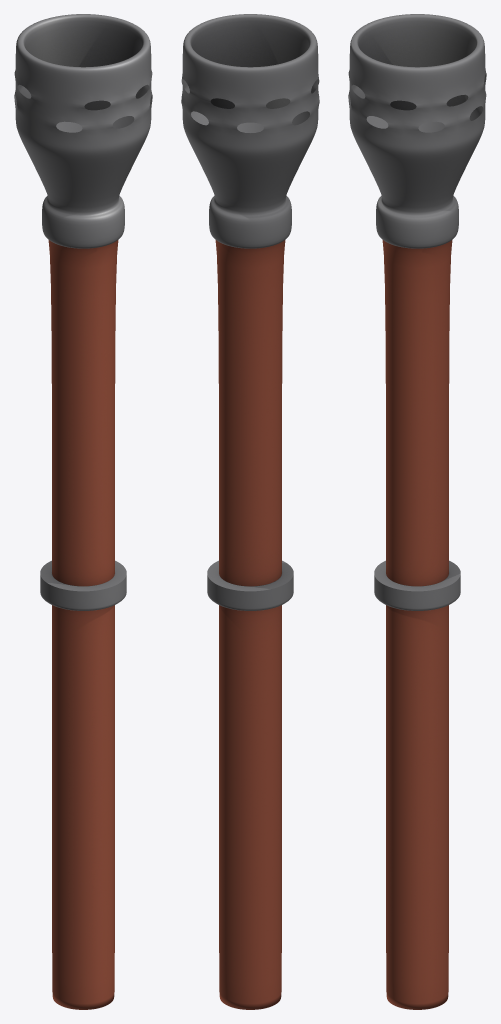
The model's file is cartoon_torch.gltf.
The picture shows the model from 3 angles, left to right: view 1: azimuth 30°, elevation 25°; view 2: azimuth 210°, elevation 25°; view 3: azimuth 270°, elevation 25°; orthographic projection.
Parts seen in each view (by area): view 1: Object001; view 2: Object001; view 3: Object001.
Boxes of the visible parts, left/top/right/bottom form: Object001: left=14, top=14, right=152, bottom=1009; Object001: left=181, top=14, right=319, bottom=1009; Object001: left=348, top=14, right=486, bottom=1009.
Size of the model in its own units: 0.0757 by 0.5814 by 0.0762.
1 material, 1 textured.
